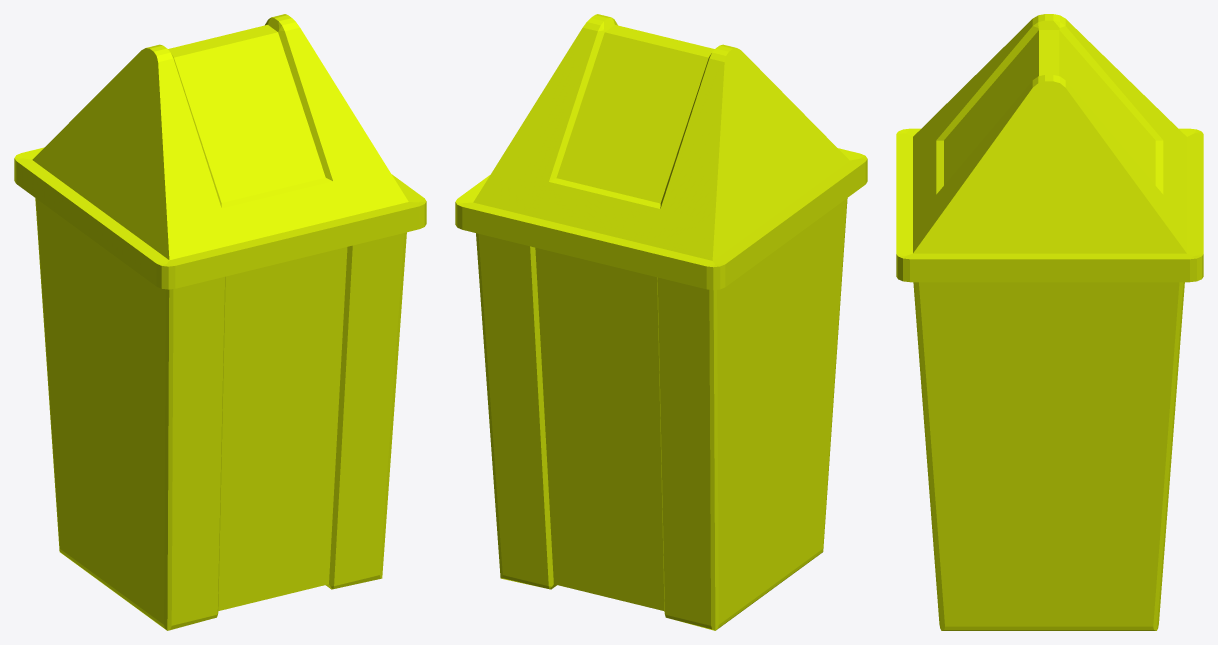
File: Metal.fbx
The picture shows the model from 3 angles, left to right: view 1: azimuth 30°, elevation 25°; view 2: azimuth 150°, elevation 25°; view 3: azimuth 270°, elevation 25°; orthographic projection.
Visible parts, largest first — view 1: lixo.004; view 2: lixo.004; view 3: lixo.004.
Part boxes in pixels (<box>): lixo.004: <box>14,14,426,630</box>; lixo.004: <box>455,14,867,630</box>; lixo.004: <box>896,14,1203,630</box>.
Size of the model in its own units: 238 by 237 by 451.
